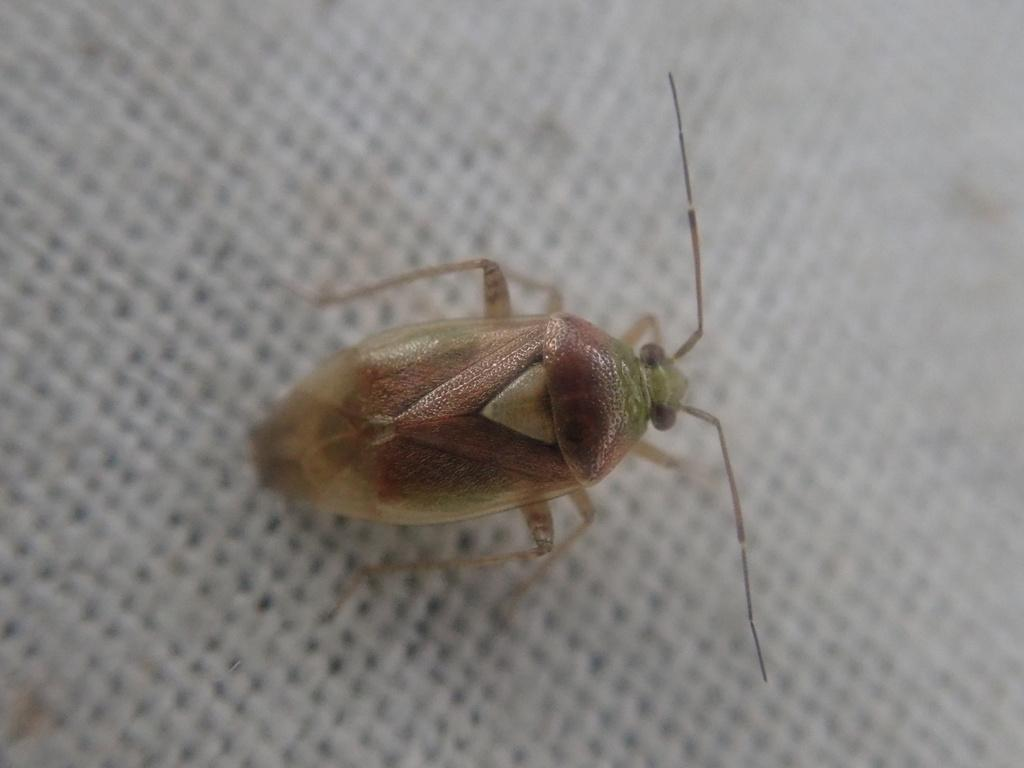plant_bugs: (186, 49, 859, 709)
